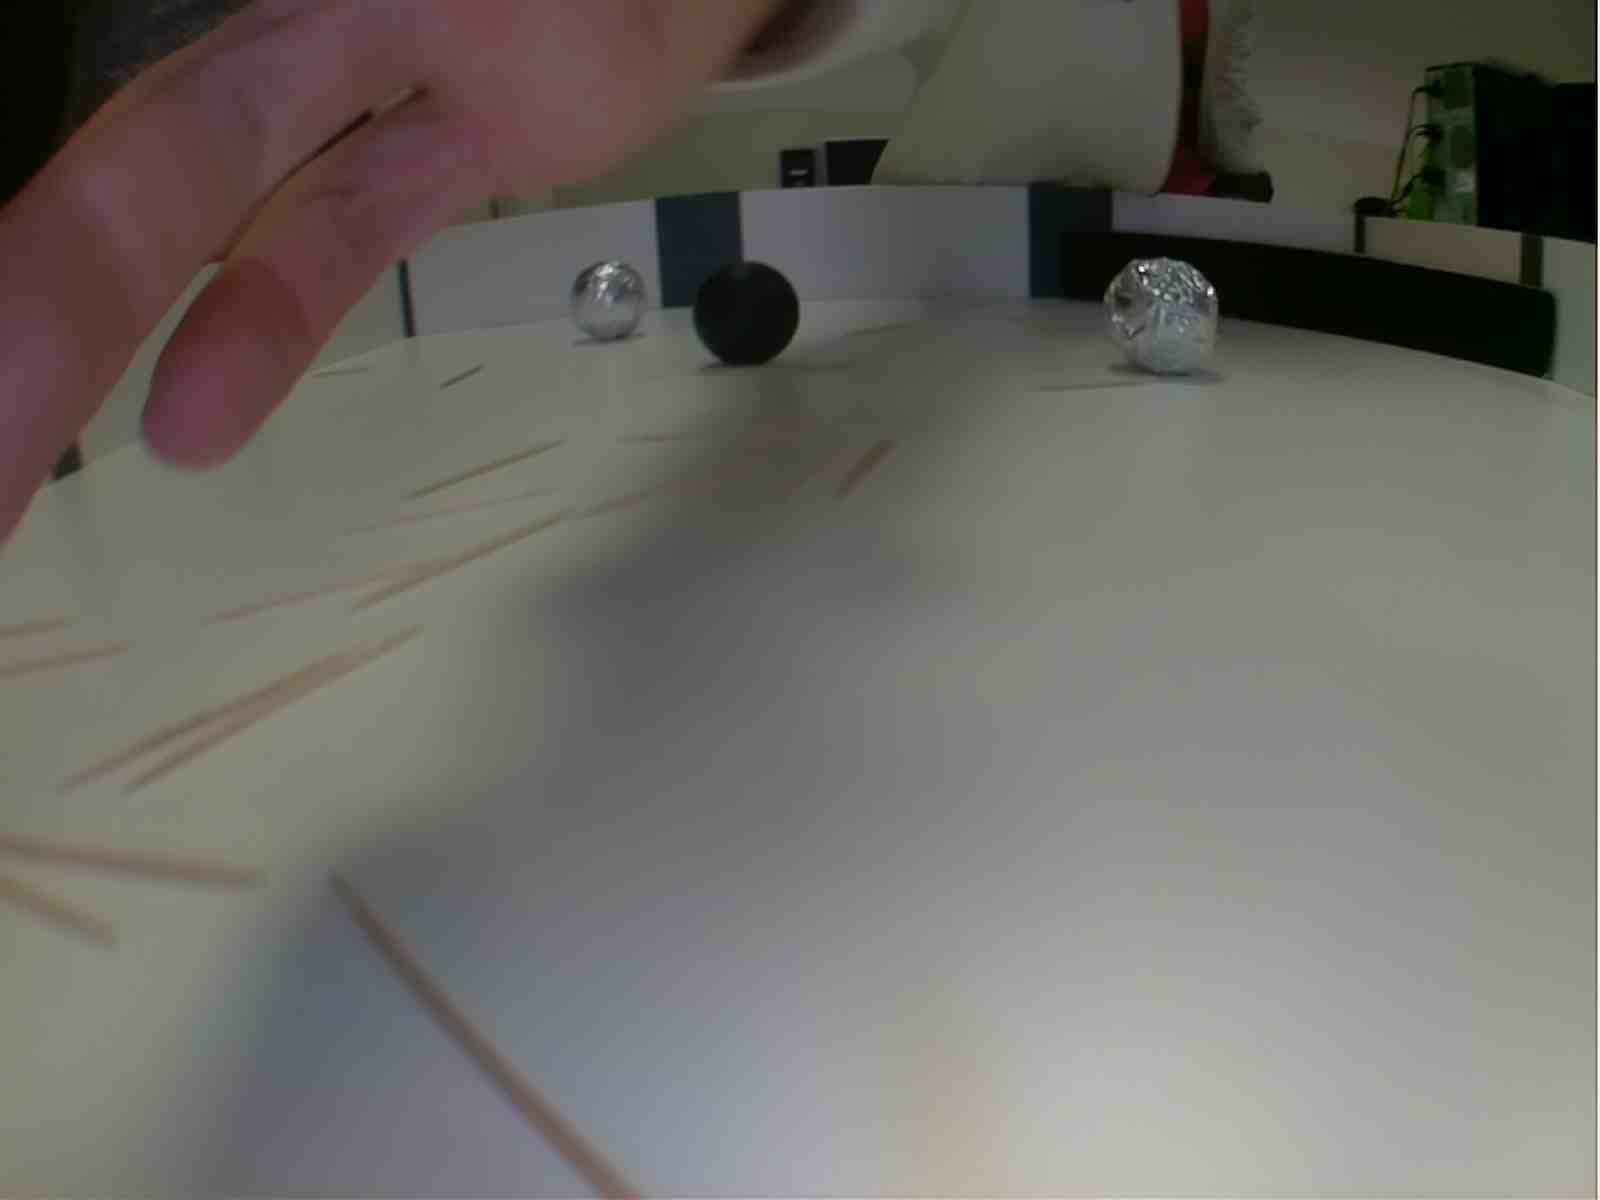bianca: (1099, 257, 1228, 384), (567, 255, 650, 345)
nera: (685, 258, 803, 372)
